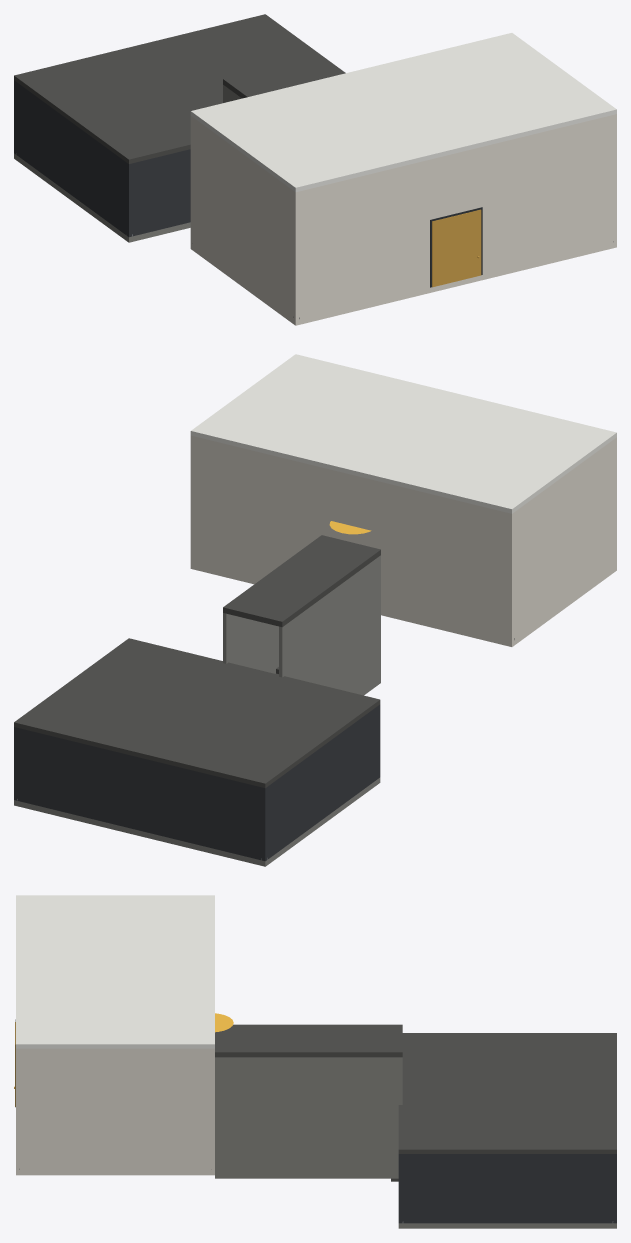
File: federal_reserve.glb
3 renders of one model, top to bottom at view 1: azimuth 30°, elevation 25°; view 2: azimuth 150°, elevation 25°; view 3: azimuth 270°, elevation 25°, orthographic. The views are drawn at different scales.
Visible parts, largest first — view 1: federal_reserve; view 2: federal_reserve; view 3: federal_reserve.
Part boxes in pixels (<box>): federal_reserve: <box>14,14,616,325</box>; federal_reserve: <box>14,354,616,866</box>; federal_reserve: <box>14,895,616,1228</box>.
Size of what is drawn, in the model's own units: 18.4 by 11.55 by 31.5.
